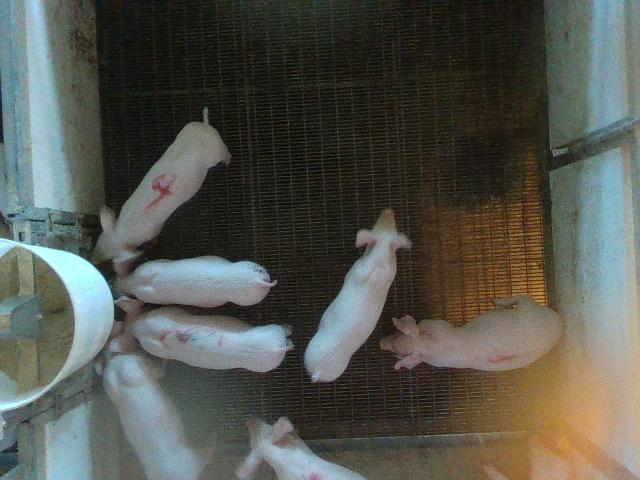pig-1: (380, 295, 561, 371)
pig-3: (109, 296, 292, 372)
pig-4: (92, 111, 231, 261)
